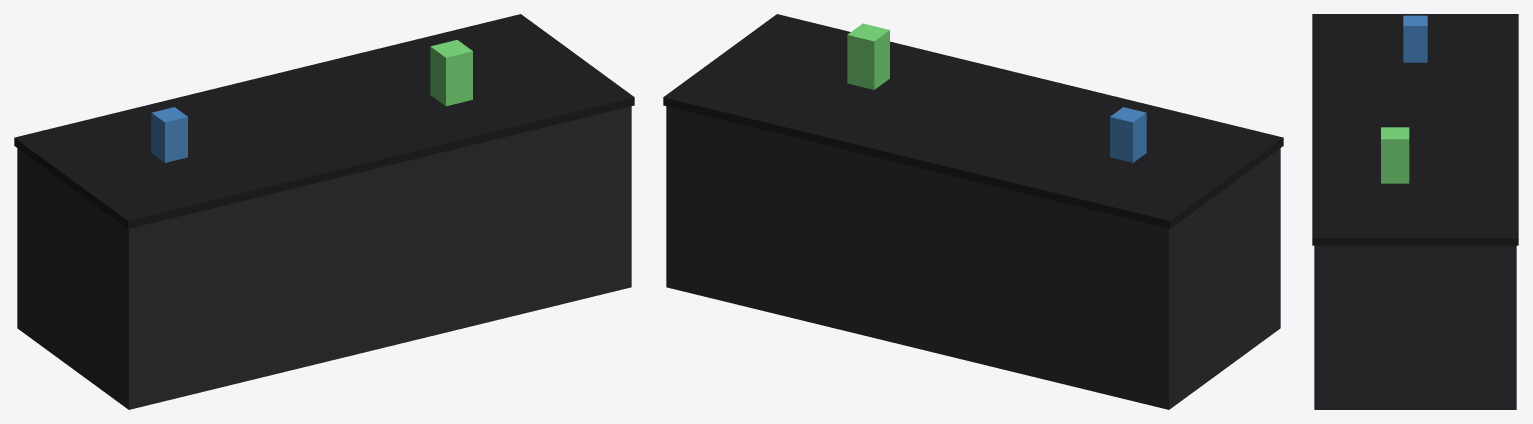
The model's file is middle_lab_2.glb.
3 views of the same model, side by side, from view 1: azimuth 30°, elevation 25°; view 2: azimuth 150°, elevation 25°; view 3: azimuth 270°, elevation 25° (orthographic). The views are drawn at different scales.
Parts seen in each view (by area): view 1: Box1, Box2, Box4, Box3; view 2: Box1, Box2, Box4, Box3; view 3: Box2, Box1, Box4, Box3.
Part boxes in pixels (<box>): Box1: <box>17,106,631,409</box>; Box2: <box>14,14,634,228</box>; Box4: <box>430,39,472,106</box>; Box3: <box>151,107,187,162</box>; Box1: <box>666,106,1280,409</box>; Box2: <box>663,14,1283,228</box>; Box4: <box>847,23,889,89</box>; Box3: <box>1110,107,1146,162</box>; Box2: <box>1312,14,1518,245</box>; Box1: <box>1314,245,1516,409</box>; Box4: <box>1381,127,1409,183</box>; Box3: <box>1403,15,1427,62</box>.
Bounding box in the file's own units: 2.62 × 1.18 × 1.02.
